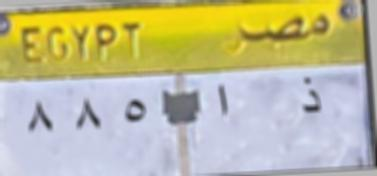5: (118, 94, 150, 138)
8: (24, 97, 58, 141), (72, 99, 103, 139)
alif: (209, 80, 236, 130)
zaal: (295, 74, 326, 122)
